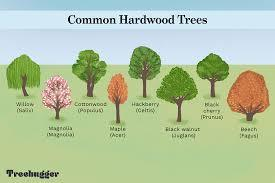tree: (156, 67, 199, 123), (228, 71, 271, 122), (130, 46, 162, 98), (74, 50, 108, 98), (6, 54, 42, 97), (197, 54, 232, 97), (43, 75, 75, 120), (108, 73, 130, 125)
